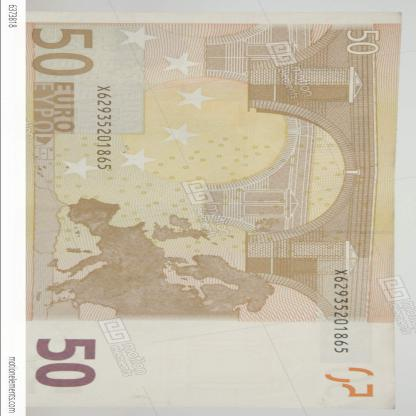euro_banknote: (14, 27, 416, 404)
